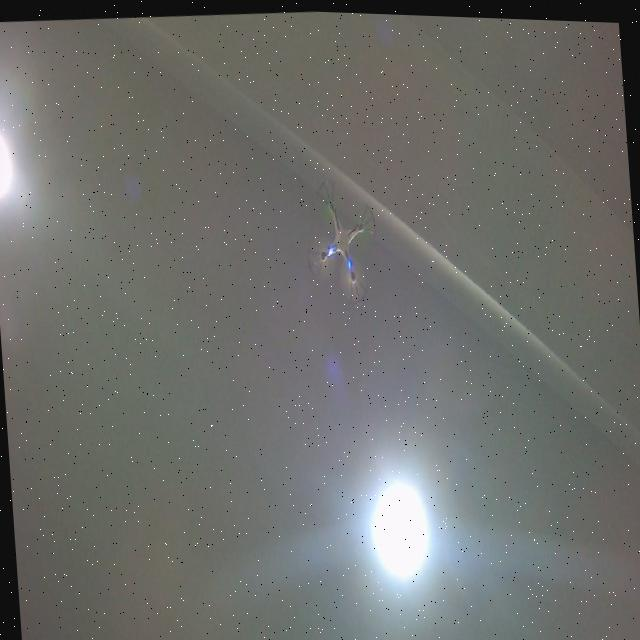drone: (298, 167, 384, 310)
